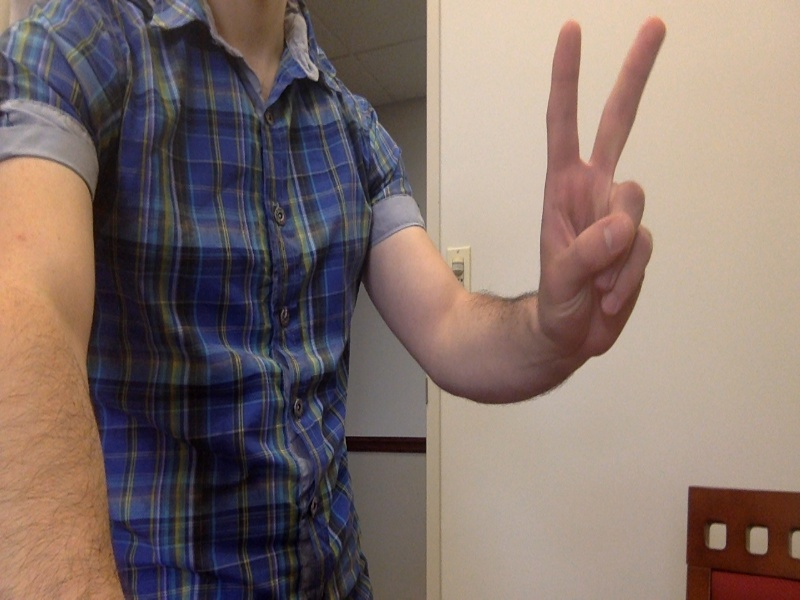2-hand: (539, 14, 666, 356)
